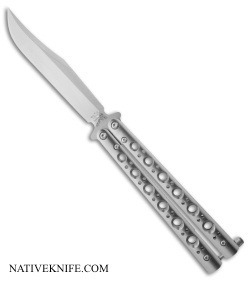knife: (3, 5, 245, 277)
